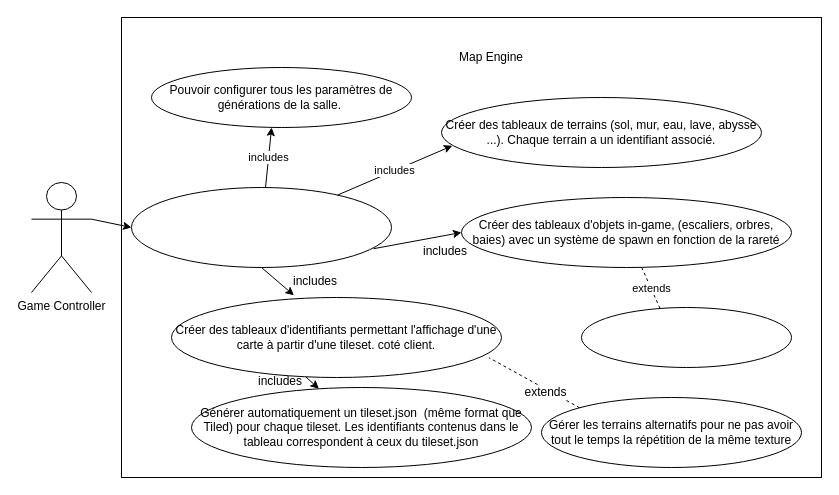
Some shapes in this 839 by 495 pixel diagram are drawn without their labels. Each missing label, with the box of its shape:
Créer procéduralement des étages ressemblant à ceux de la version originale: (130, 186, 392, 268)
Le format de sortie est en .json et de similaire au tile object layer de tiled: (580, 306, 792, 368)
